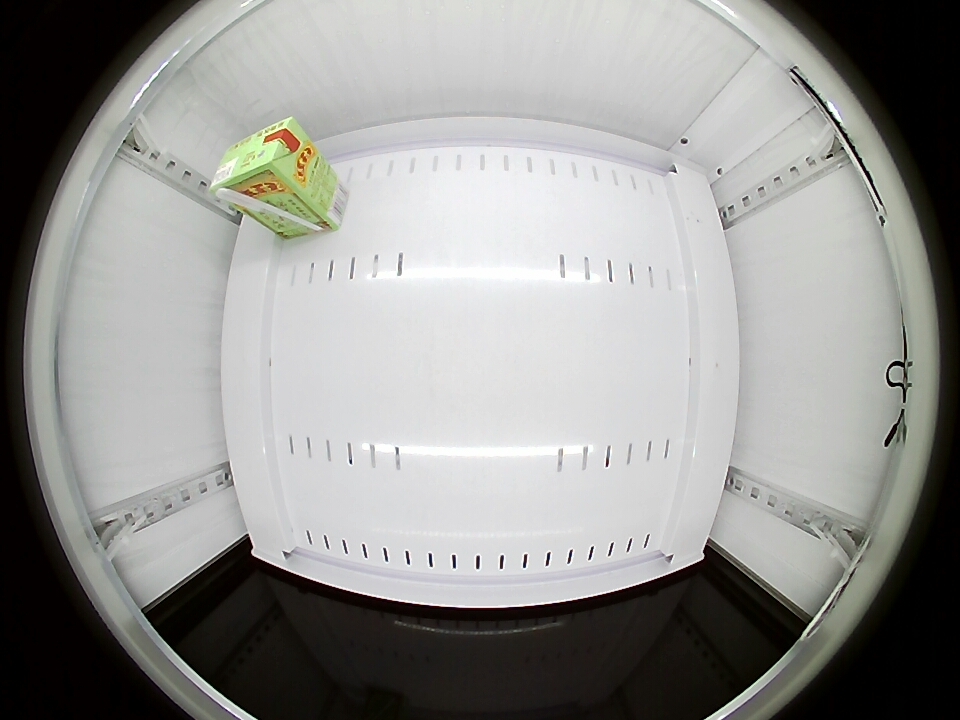wanglaoji: (210, 116, 313, 206)
